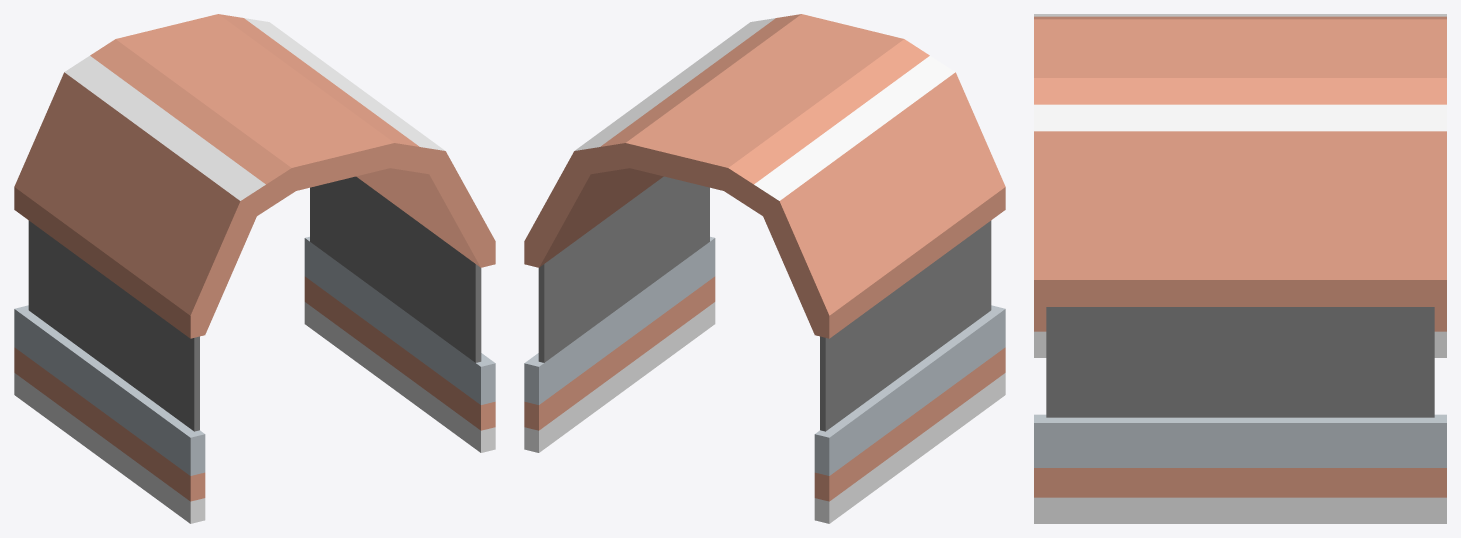
The model's file is buildingCorridorOpen.glb.
3 renders of one model, left to right at view 1: azimuth 30°, elevation 25°; view 2: azimuth 150°, elevation 25°; view 3: azimuth 270°, elevation 25°, orthographic. The views are drawn at different scales.
Parts seen in each view (by area): view 1: buildingCorridorOpen; view 2: buildingCorridorOpen; view 3: buildingCorridorOpen.
Boxes of the visible parts, x1,y1,x2,y2 form: buildingCorridorOpen: [14, 14, 495, 523]; buildingCorridorOpen: [524, 14, 1005, 523]; buildingCorridorOpen: [1034, 14, 1446, 523].
Bounding box in the file's own units: 10 × 10.37 × 10.
